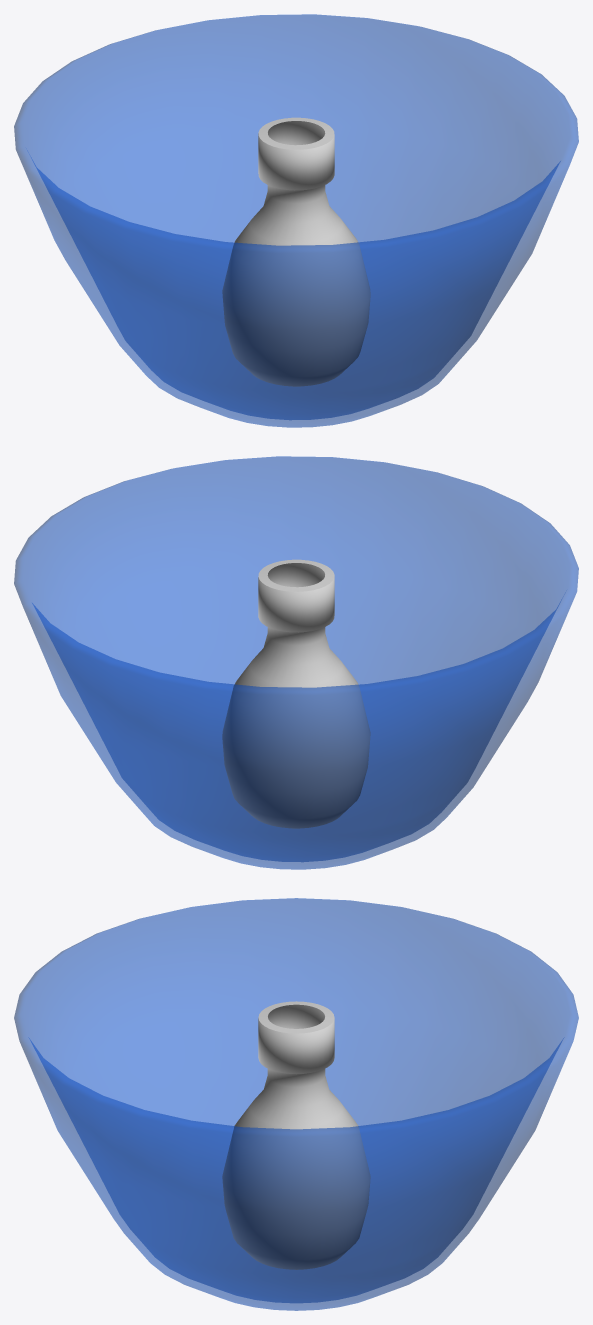
The model's file is kattolamppu.fbx.
The picture shows the model from 3 angles, top to bottom: view 1: azimuth 30°, elevation 25°; view 2: azimuth 150°, elevation 25°; view 3: azimuth 270°, elevation 25°; orthographic projection.
Visible parts, largest first — view 1: kattolamppu; view 2: kattolamppu; view 3: kattolamppu.
Boxes of the visible parts, x1,y1,x2,y2 form: kattolamppu: [14, 14, 578, 427]; kattolamppu: [14, 456, 578, 869]; kattolamppu: [14, 898, 578, 1310].
Bounding box in the file's own units: 303 × 158 × 303.
